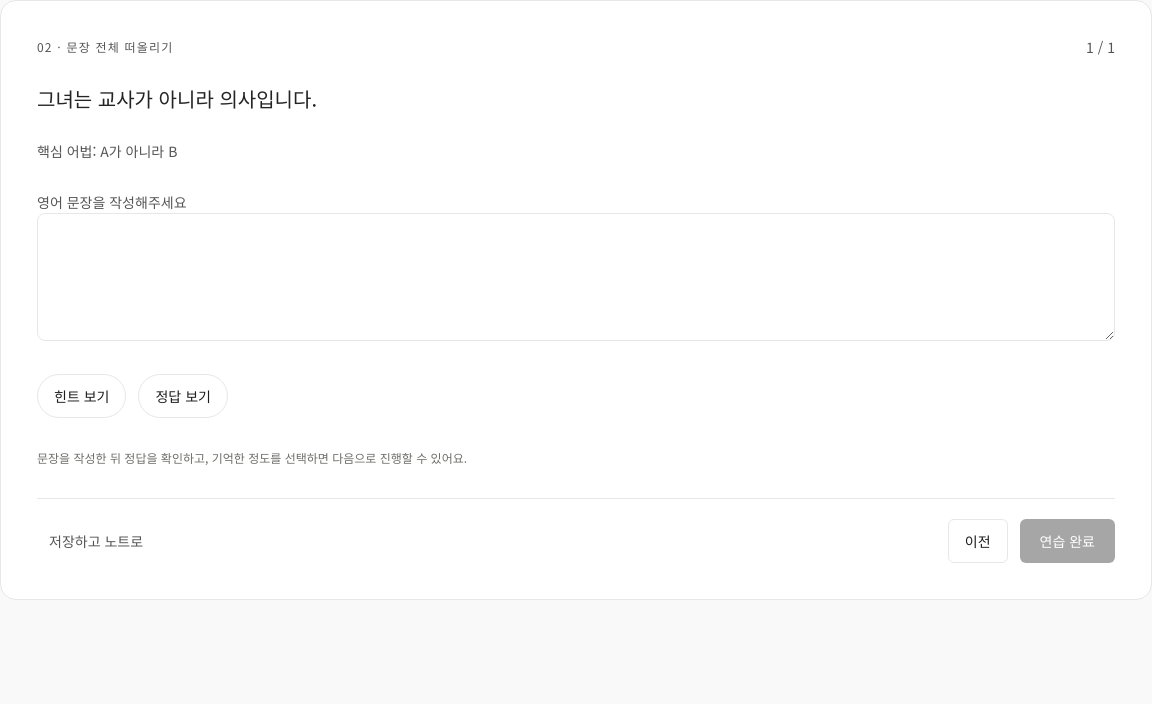
Test: recall workflow › does not expose the whole answer before reveal and keeps typed input after save failure
The image size is (1152, 704).
expect the text "She is not a teacher but a doctor." is not shown: met
Type "My own answer." into the text box.
click(576, 277); type("My own answer.")  # box [37,213,1115,341]
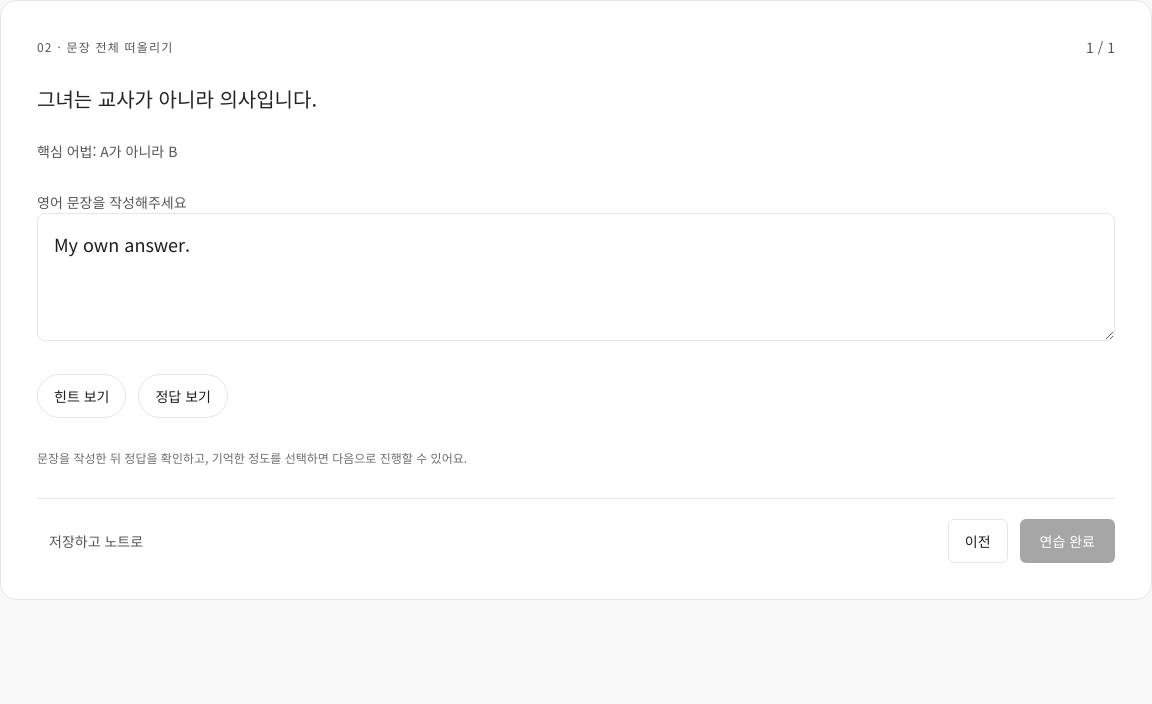
Click the button "정답 보기".
click(183, 396)  # box [138,374,228,418]
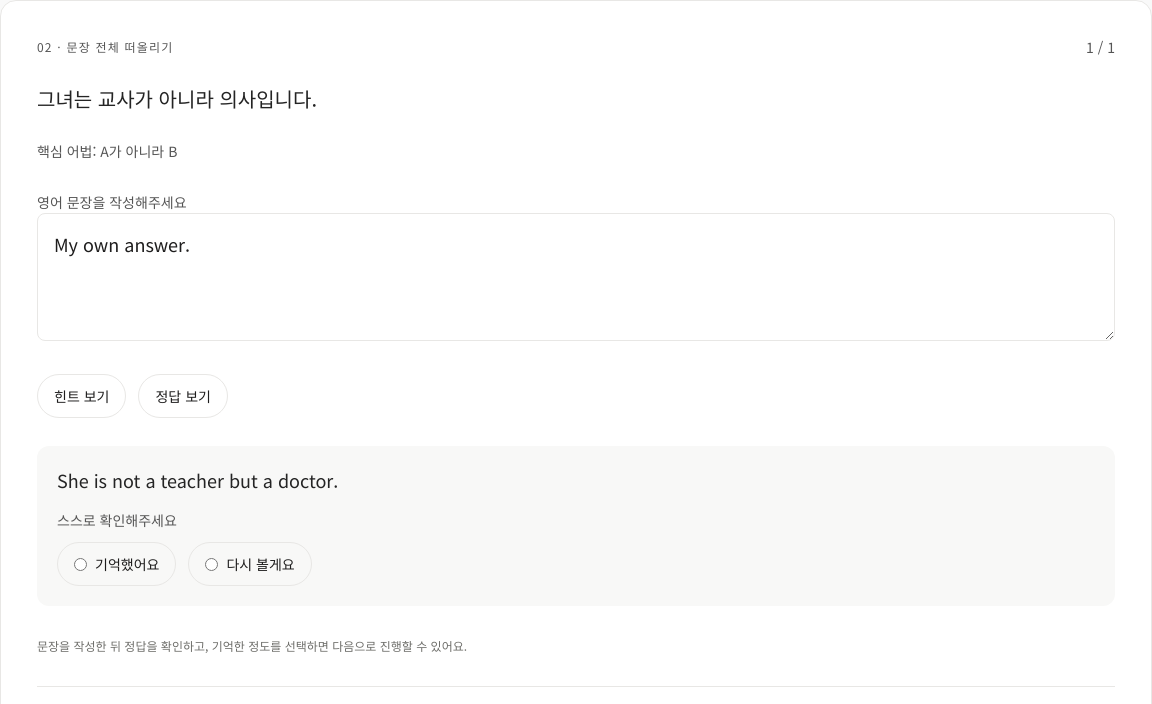
Click the radio button labelled "다시 볼게요".
click(212, 564)  # box [205,558,218,570]
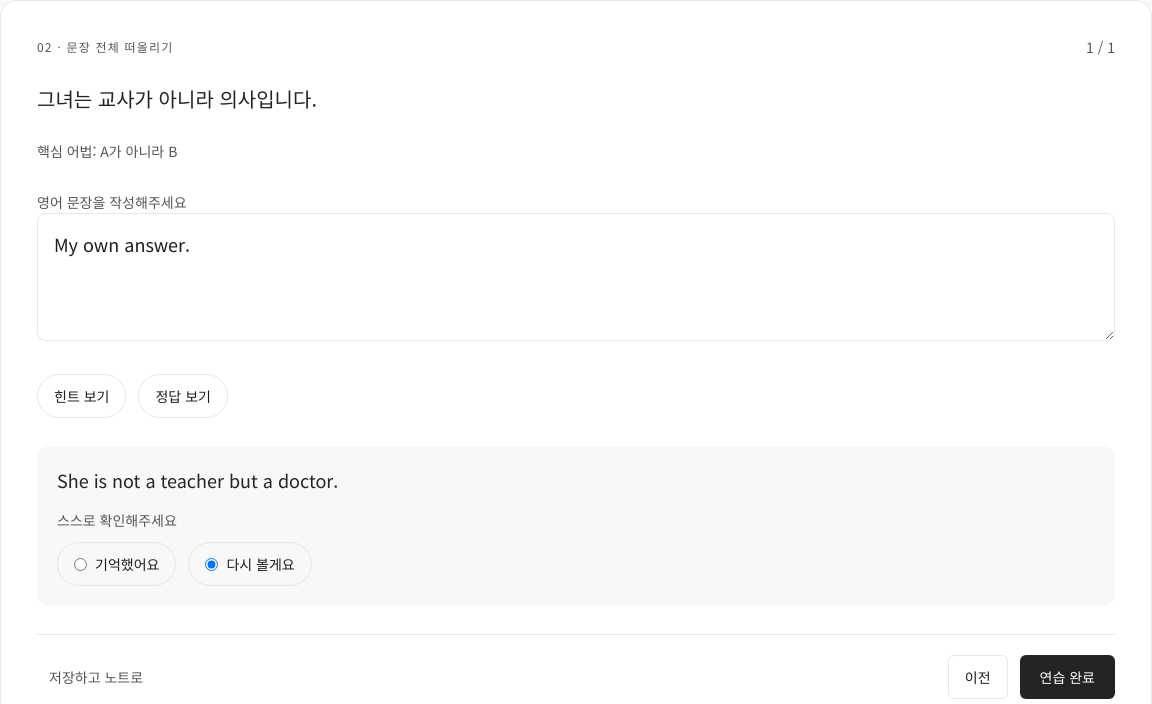
Click the button "연습 완료".
click(1067, 677)  # box [1020,655,1115,699]
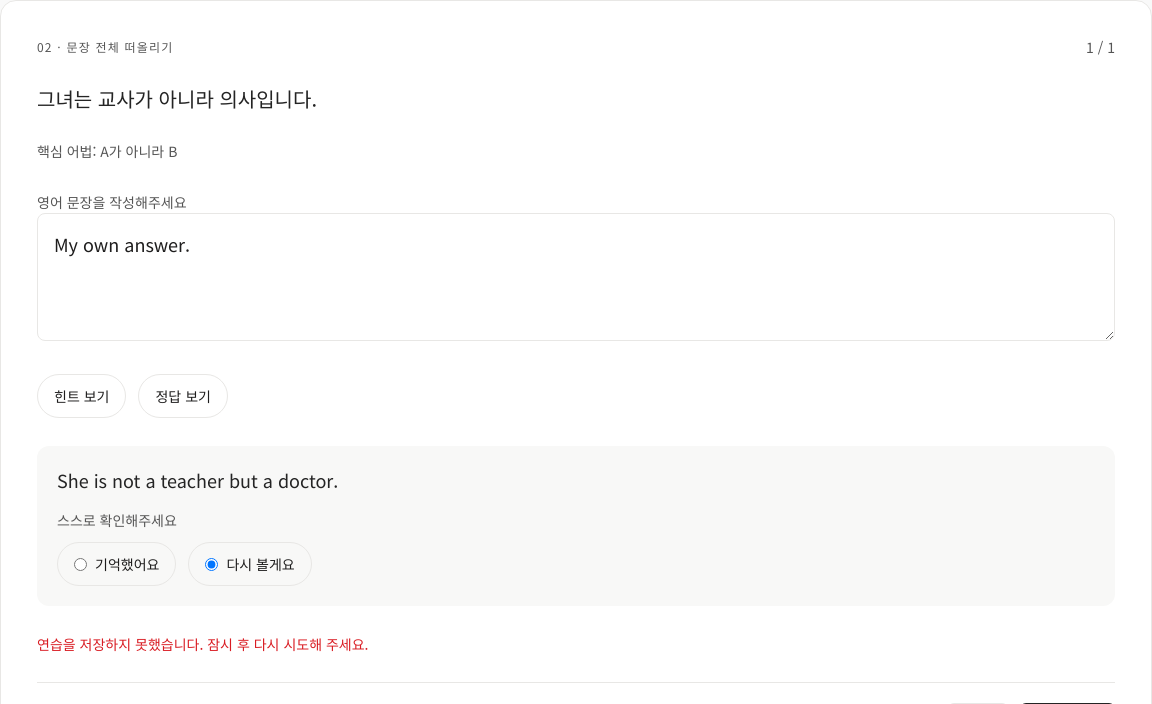
expect the message shows "연습을 저장하지 못했습니다": met, box [37,634,368,654]
